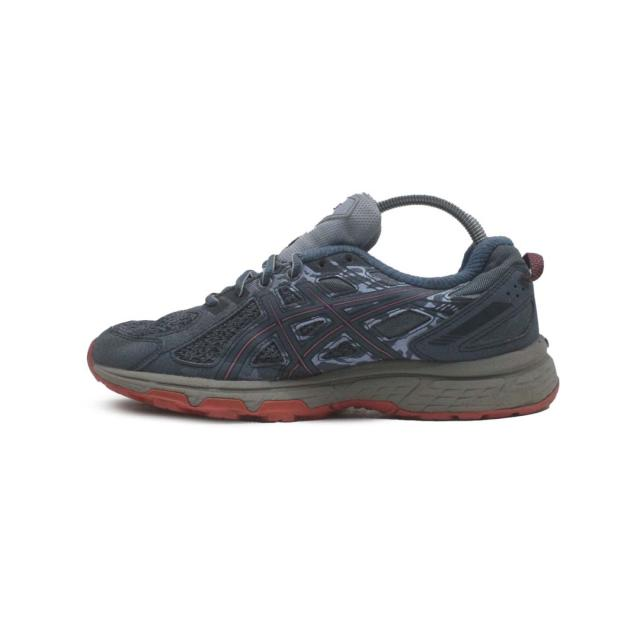heel: (478, 240, 539, 353)
midsole: (87, 338, 562, 425)
uppersole: (95, 188, 493, 379)
